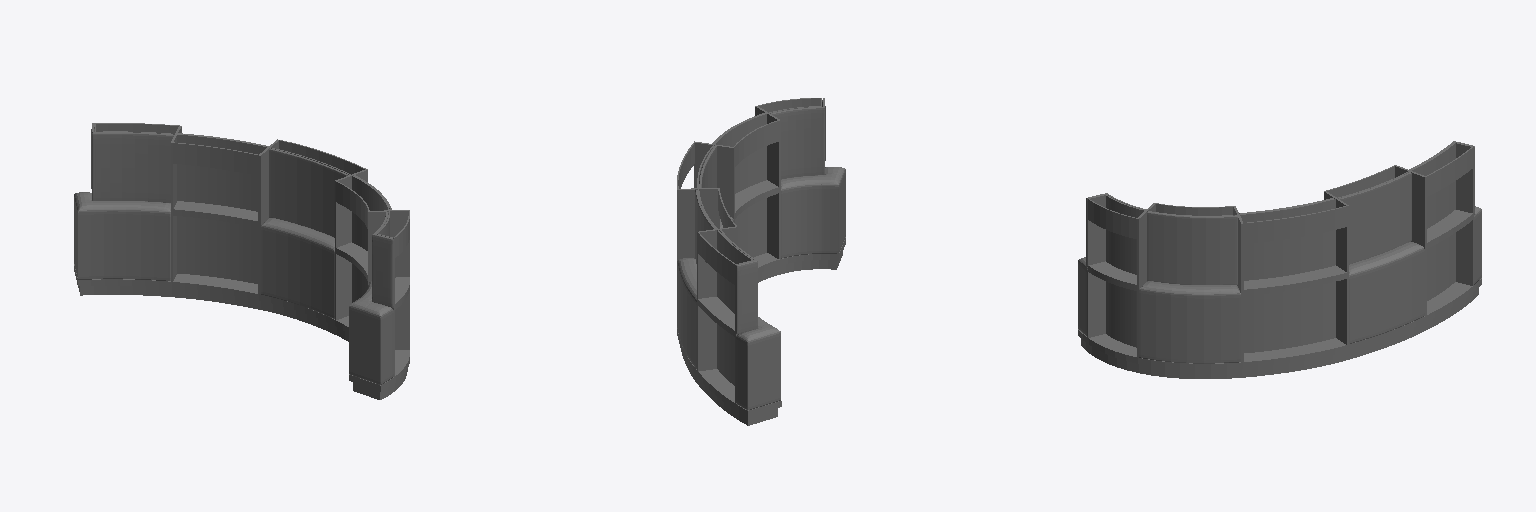
Rendered from C-CenterArea.obj.
3 renders of one model, left to right at view 1: azimuth 30°, elevation 25°; view 2: azimuth 150°, elevation 25°; view 3: azimuth 270°, elevation 25°, orthographic.
Visible parts, largest first — view 1: C-CenterArea; view 2: C-CenterArea; view 3: C-CenterArea.
Part boxes in pixels (bbox=[...]): C-CenterArea: bbox=[74, 123, 409, 399]; C-CenterArea: bbox=[677, 98, 845, 425]; C-CenterArea: bbox=[1078, 141, 1481, 378].
Bounding box in the file's own units: 1.93 × 1.5 × 3.54.